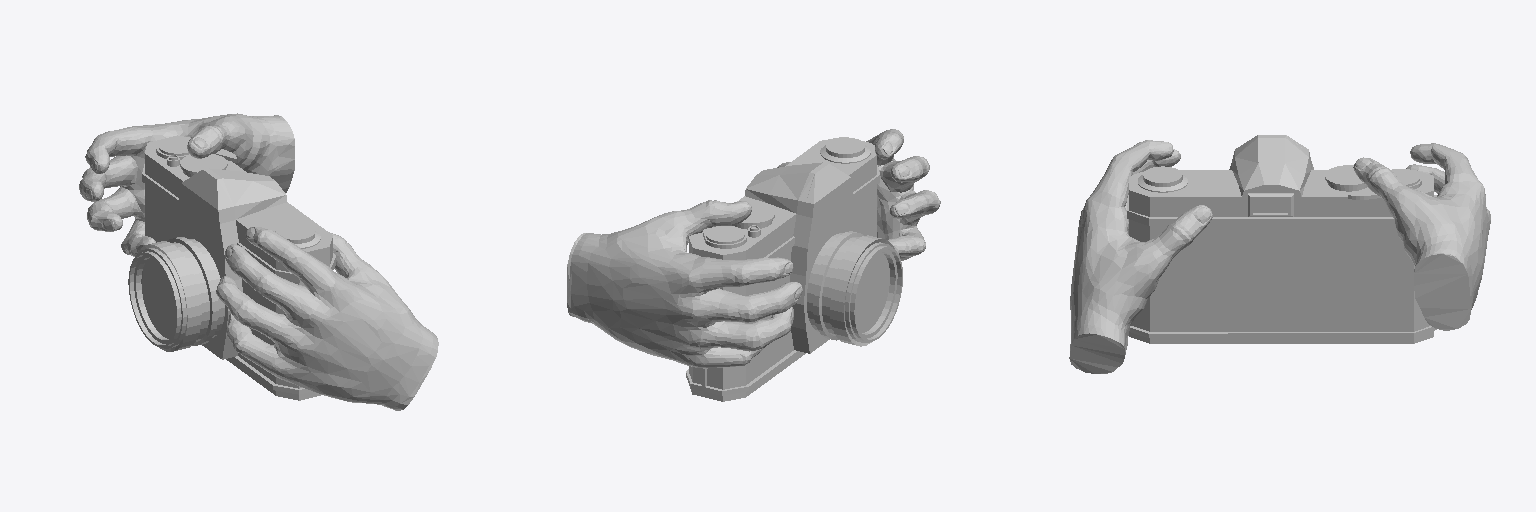
File: spotmatic_hands.obj
The picture shows the model from 3 angles: view 1: azimuth 30°, elevation 25°; view 2: azimuth 150°, elevation 25°; view 3: azimuth 270°, elevation 25°; orthographic projection.
Visible parts, largest first — view 1: Roue_Vues.007_Cylinder.006; view 2: Roue_Vues.007_Cylinder.006; view 3: Roue_Vues.007_Cylinder.006.
Boxes of the visible parts, box(x1,y1,x2,y2) form: Roue_Vues.007_Cylinder.006: box(79, 113, 438, 410); Roue_Vues.007_Cylinder.006: box(567, 129, 940, 401); Roue_Vues.007_Cylinder.006: box(1069, 135, 1490, 373).
Bounding box in the file's own units: 17.77 × 15.32 × 30.29.